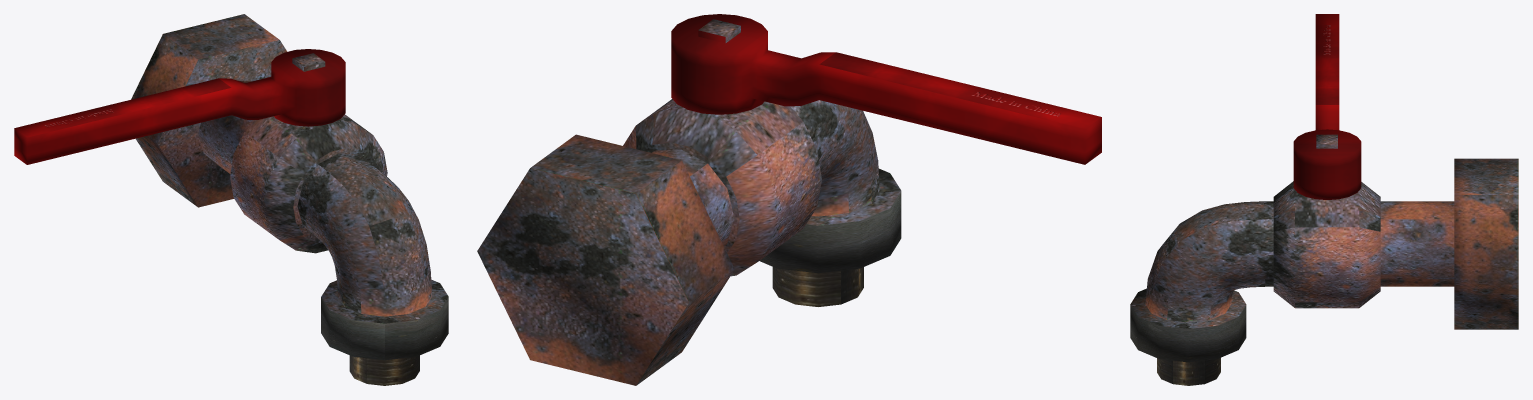
Rendered from Tap.FBX.
3 views of the same model, side by side, from view 1: azimuth 30°, elevation 25°; view 2: azimuth 150°, elevation 25°; view 3: azimuth 270°, elevation 25° (orthographic). The views are drawn at different scales.
Parts seen in each view (by area): view 1: Line01; view 2: Line01; view 3: Line01.
Part boxes in pixels (bbox=[...]): Line01: bbox=[14, 14, 448, 385]; Line01: bbox=[477, 14, 1101, 385]; Line01: bbox=[1130, 14, 1518, 385].
Size of the model in its own units: 181 by 120 by 181.
